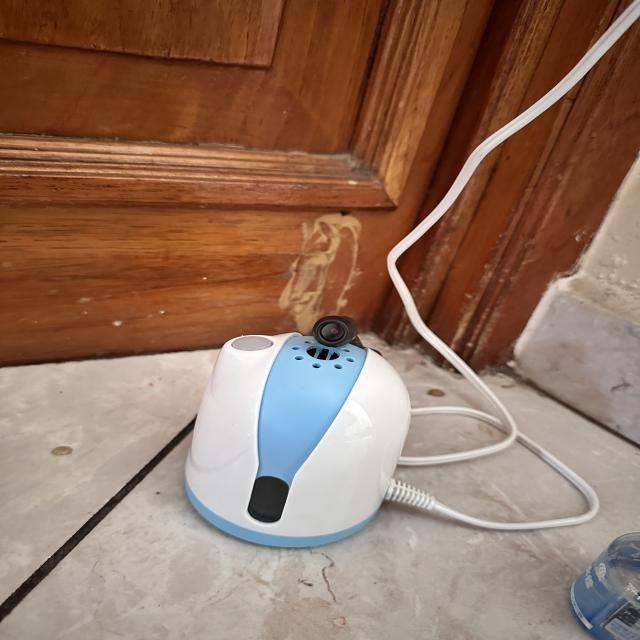hidden camera: (314, 318, 349, 344)
